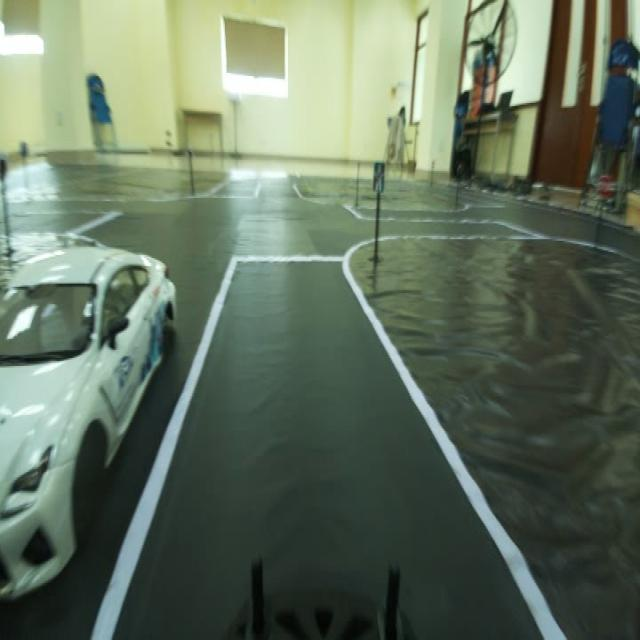car: (1, 126, 180, 604)
highway_exit: (368, 154, 390, 202)
